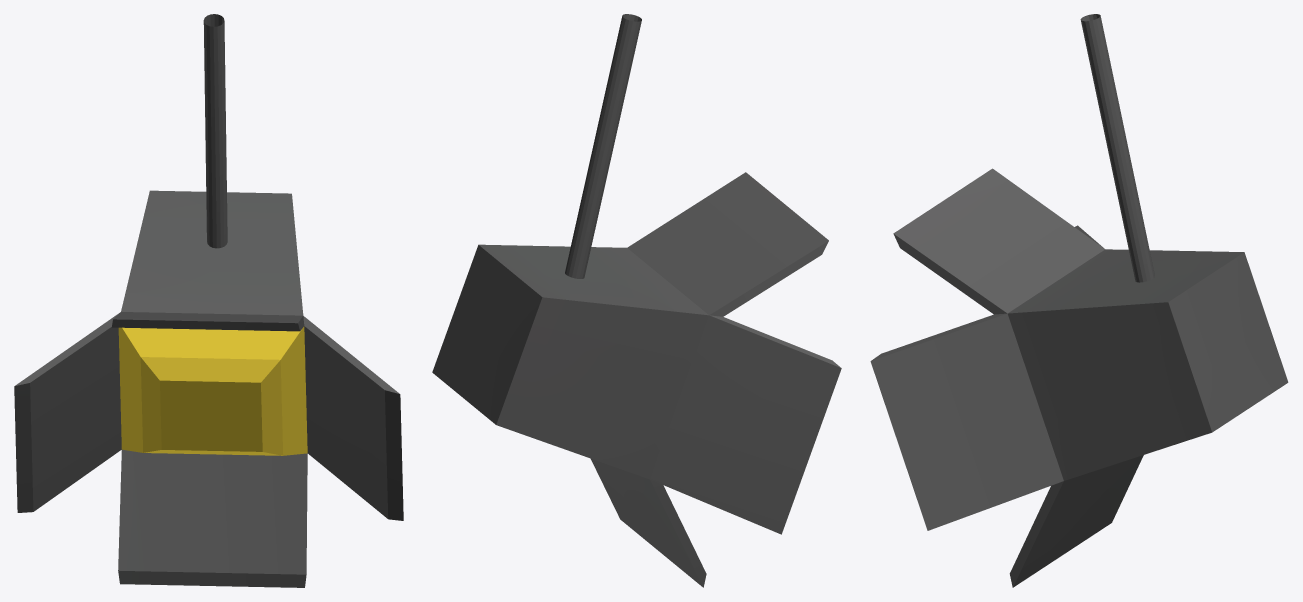
The model's file is Light.fbx.
3 views of the same model, side by side, from view 1: azimuth 30°, elevation 25°; view 2: azimuth 150°, elevation 25°; view 3: azimuth 270°, elevation 25° (orthographic).
Parts seen in each view (by area): view 1: Light; view 2: Light; view 3: Light.
Part boxes in pixels (x1,y1,x2,y2): Light: (14, 14, 403, 587); Light: (432, 14, 841, 587); Light: (870, 14, 1288, 587).
Size of the model in its own units: 59.05 by 89.67 by 62.03.
Materials: 1 (1 with a texture image).
